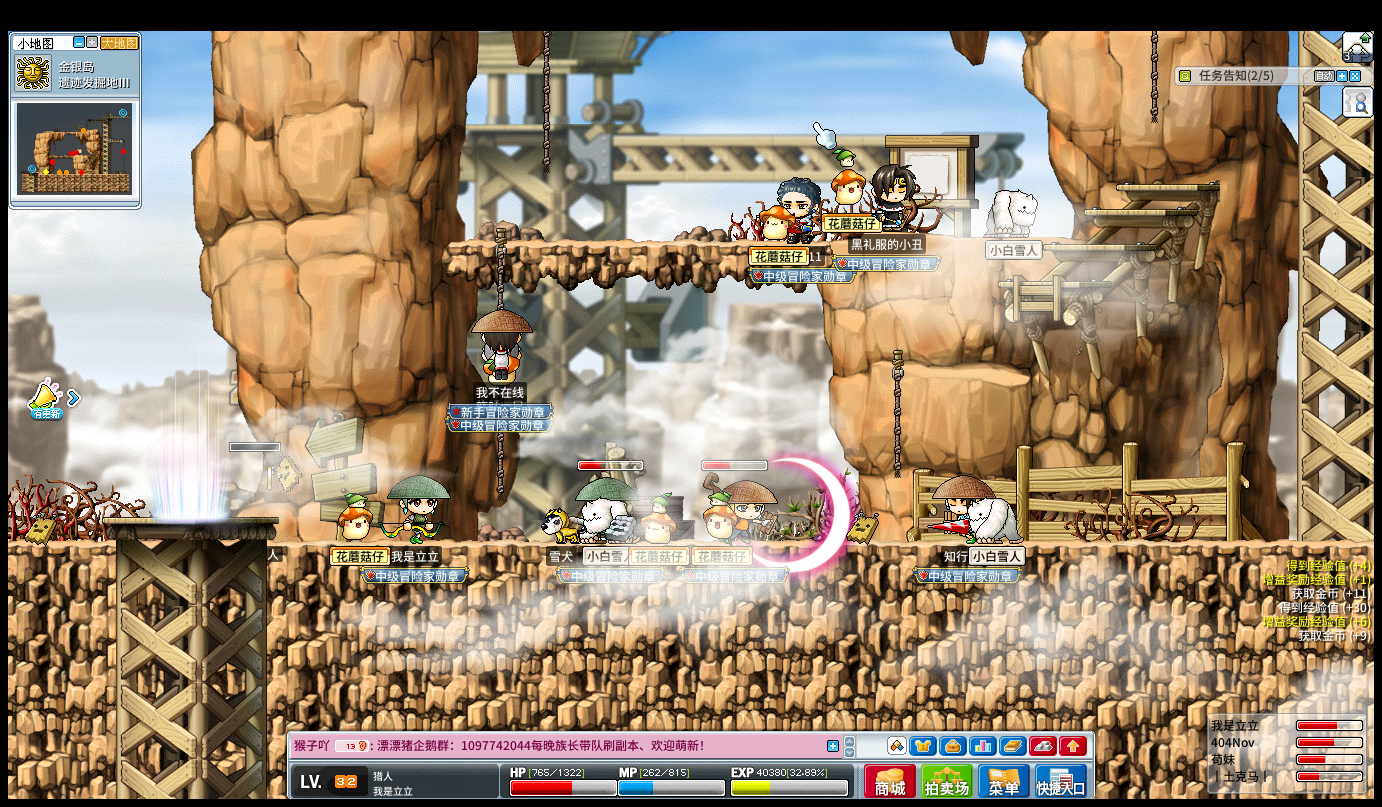floor: (266, 538, 1372, 552), (444, 239, 821, 250), (925, 364, 1030, 386), (101, 518, 278, 525), (8, 539, 114, 550), (1042, 243, 1160, 252), (1082, 207, 1194, 216), (996, 280, 1105, 289), (1116, 184, 1220, 191)
rope: (889, 349, 903, 480), (542, 28, 551, 175), (492, 228, 506, 310), (1148, 31, 1157, 122), (496, 430, 504, 497)
